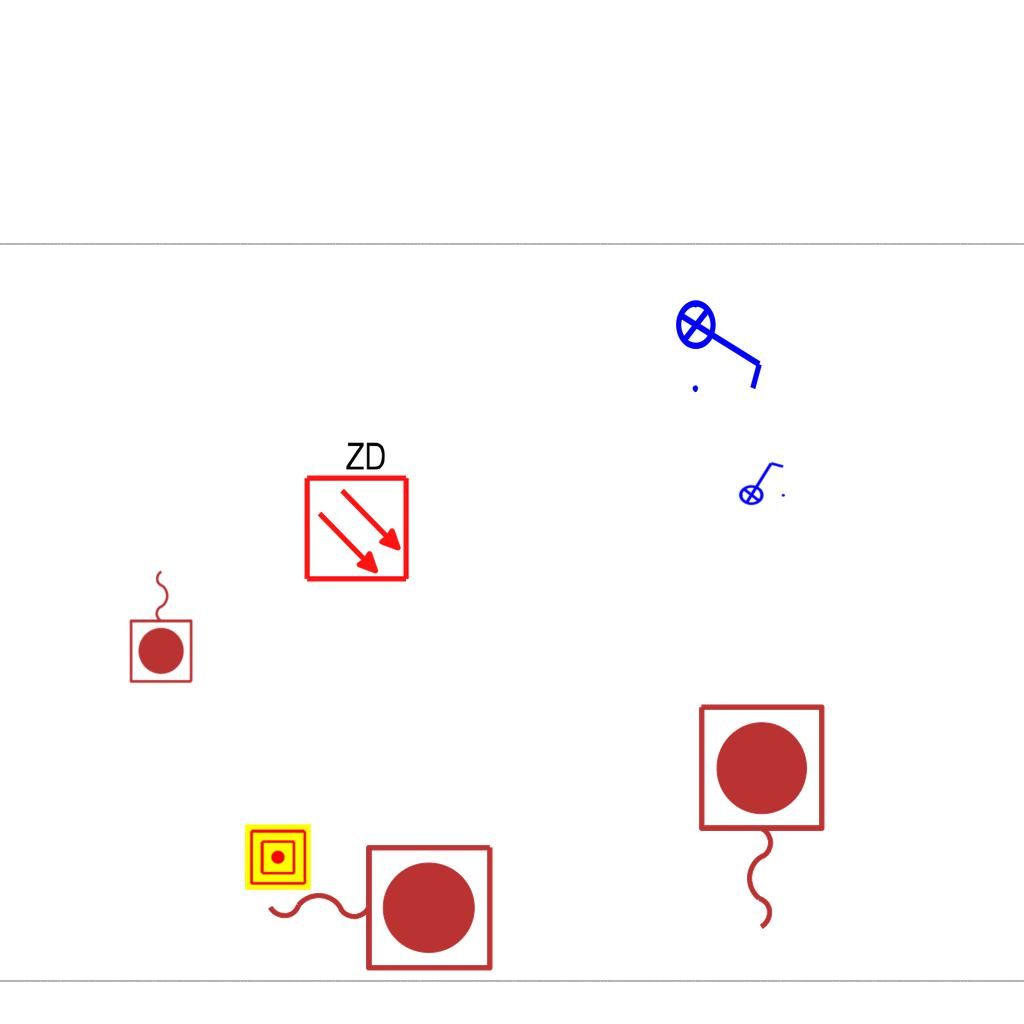Ausschalter_beleuchtet: (674, 286, 770, 398), (732, 458, 788, 506)
NAM-Nichtautomatischer_Melder: (245, 824, 311, 890)
ZD_Melder_in_Zwischendecke_mit_Revisionsoeffnung_mind_40_x_40_cm: (298, 435, 412, 584)
Zugtaster: (688, 696, 832, 940), (257, 834, 501, 978), (126, 565, 198, 687)
